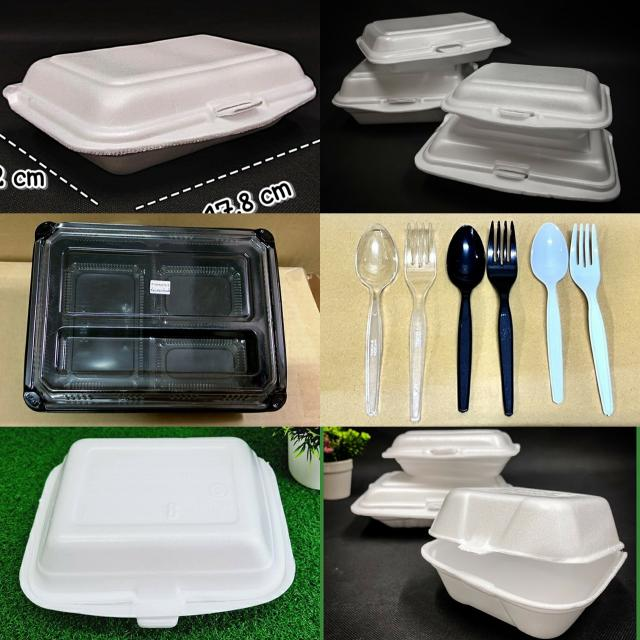Single-Use-Plastic: (20, 436, 295, 628), (24, 222, 286, 412), (3, 35, 316, 175), (422, 488, 625, 638), (415, 114, 620, 201), (442, 62, 612, 130), (333, 59, 477, 124), (569, 224, 613, 416), (355, 224, 398, 416), (357, 12, 510, 64), (382, 430, 520, 482), (447, 225, 485, 412), (530, 222, 568, 404), (404, 222, 437, 422), (487, 221, 518, 416), (350, 471, 452, 528)
